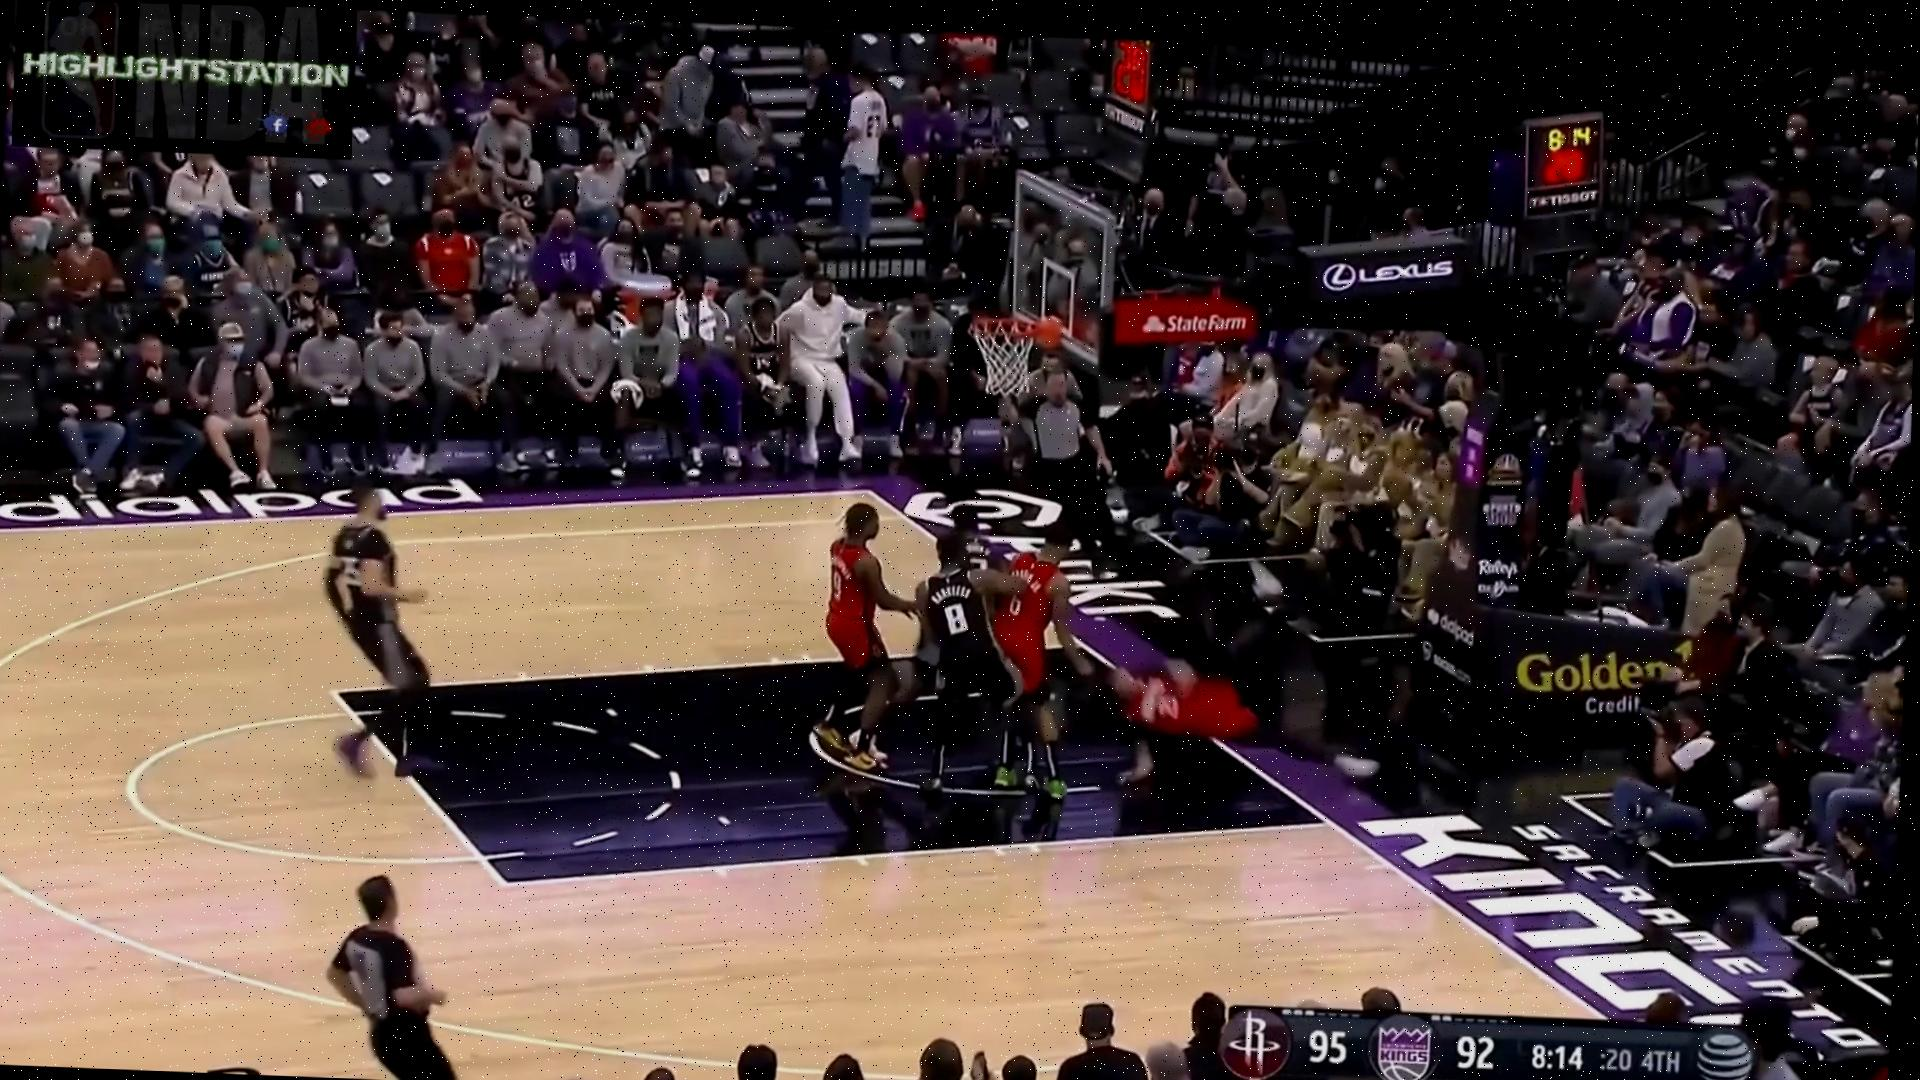no_foul: (781, 491, 1004, 799)
